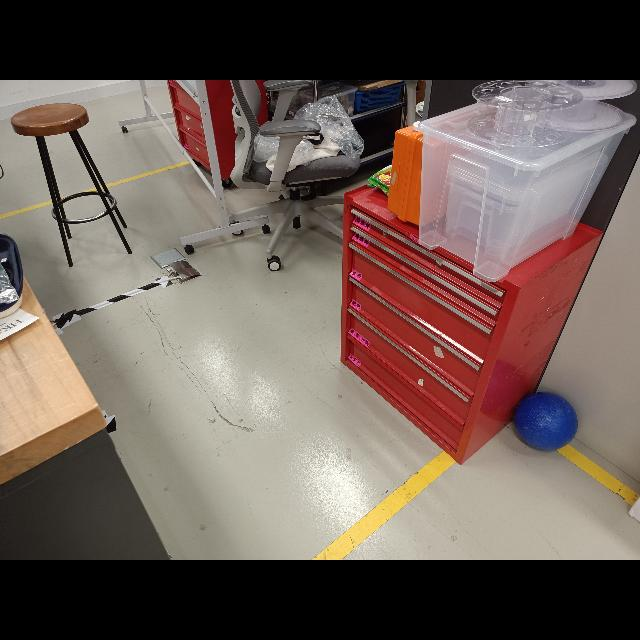B: (514, 391, 578, 451)
